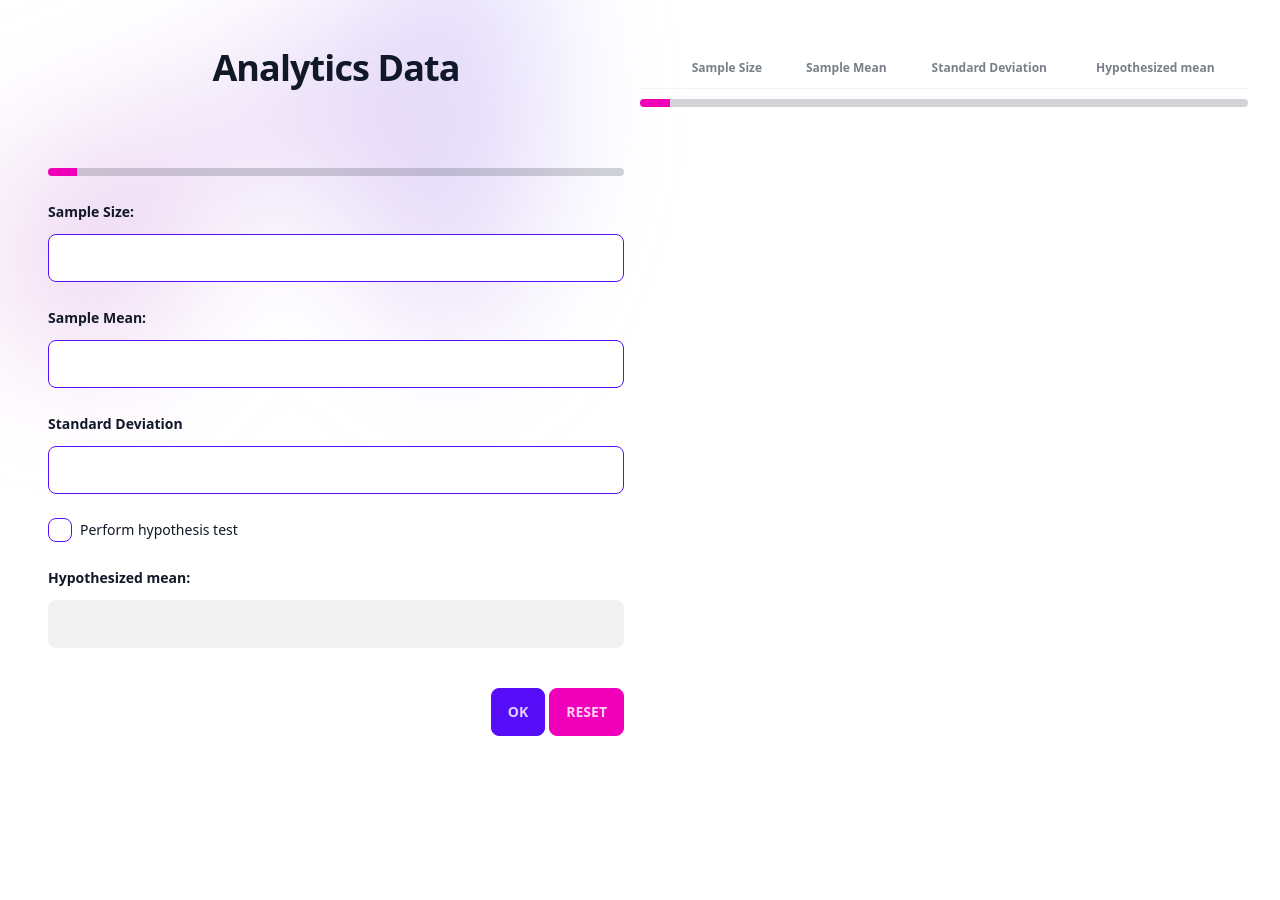
it: Sample Size Field validation › Should display error when input is empty
This screenshot has width=1280, height=900.
Click the button "Ok": (518, 712) [491,688,545,736]
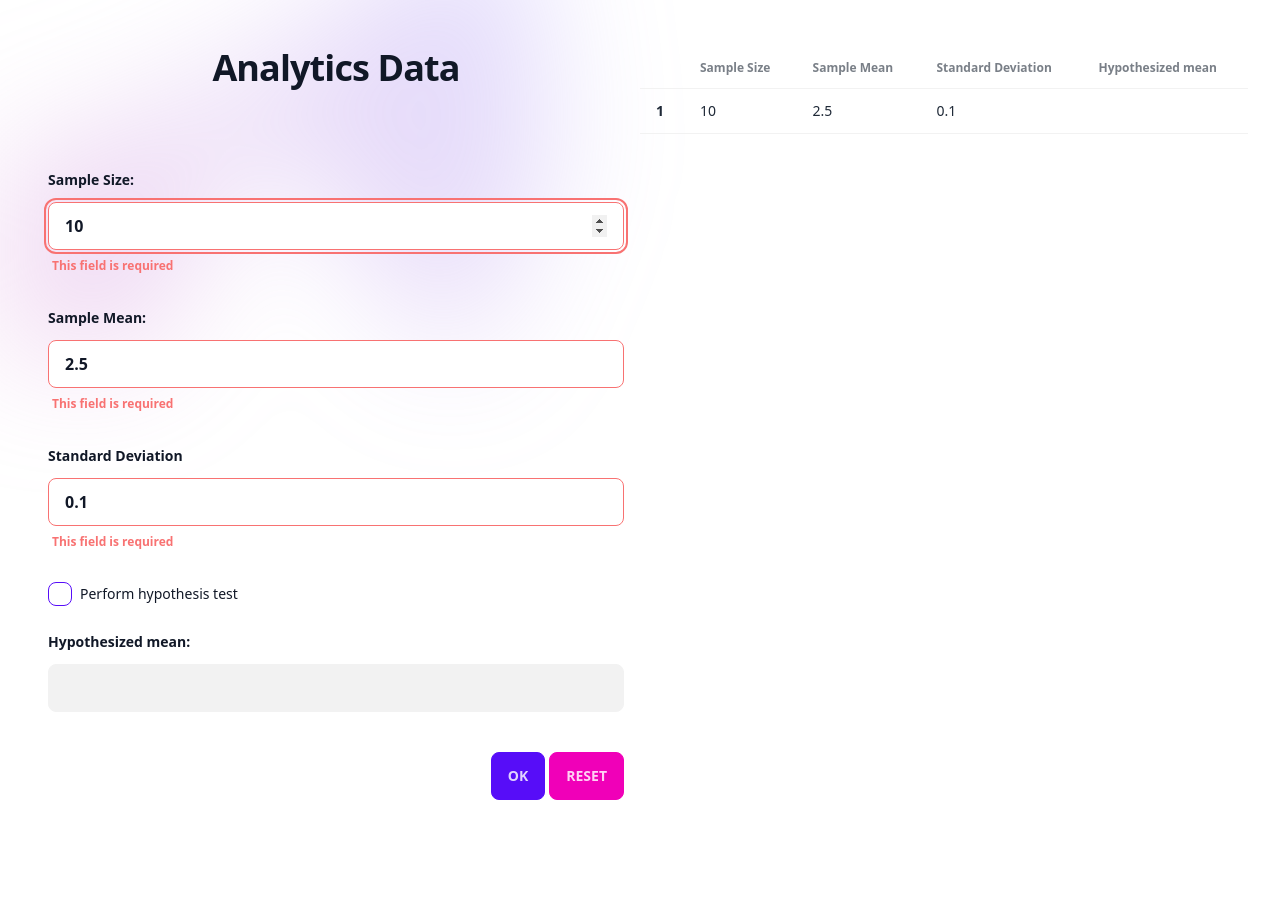
Check: the element with test id "sample-size-field" shows "This field is required", box [52,257,173,274]
